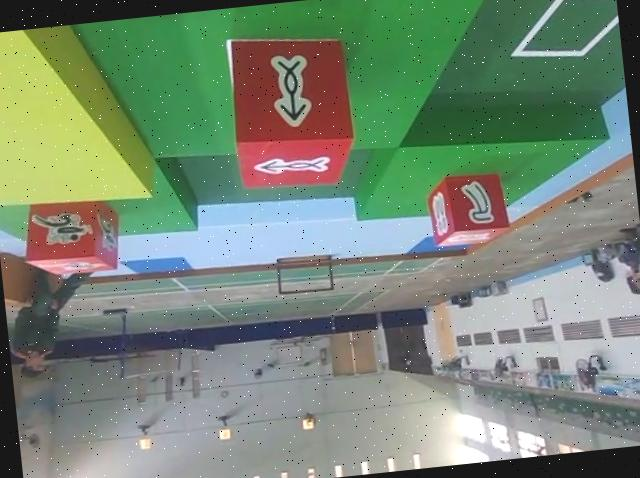R1: (18, 198, 123, 282)
R2 Fake: (423, 166, 516, 251)
R2 Real: (218, 31, 362, 196)
